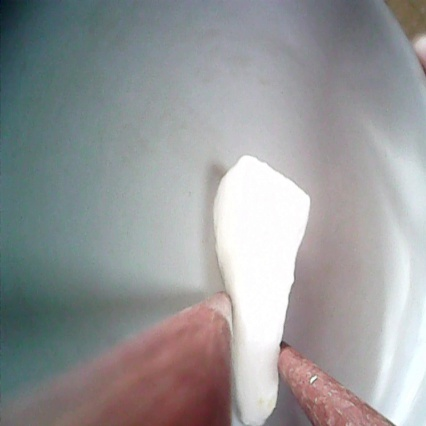white_chinese-yam: (215, 152, 314, 426)
